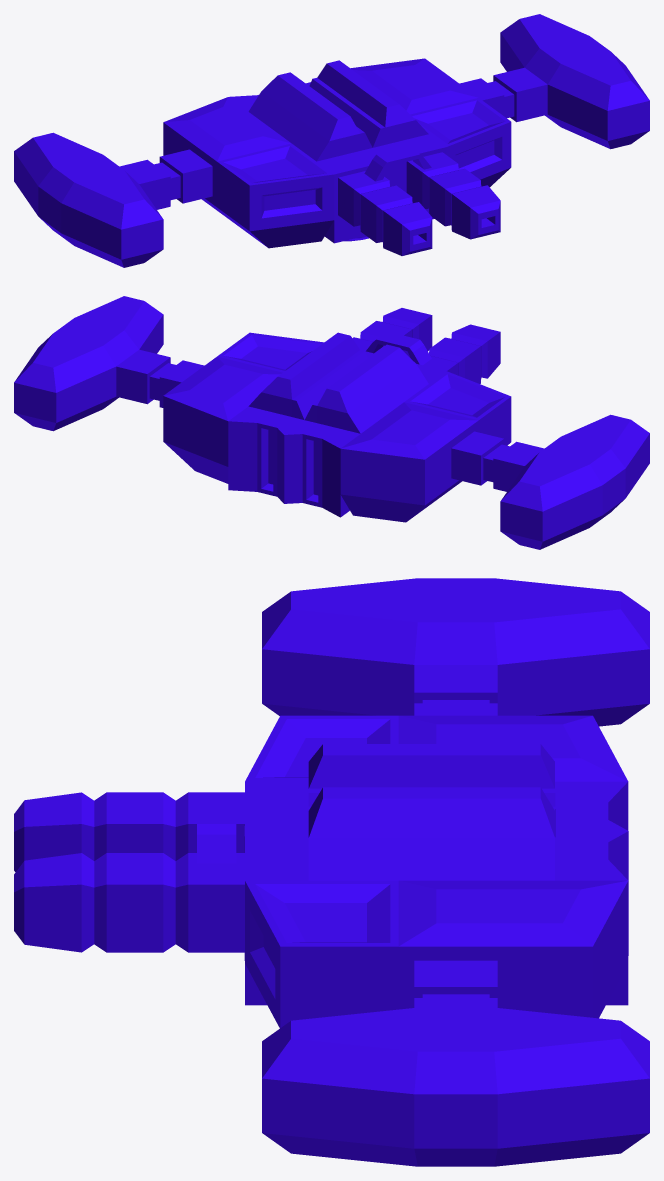
Rendered from Powerplant_Model_Enemy_GroundTurretHead.fbx.
The picture shows the model from 3 angles, top to bottom: view 1: azimuth 30°, elevation 25°; view 2: azimuth 150°, elevation 25°; view 3: azimuth 270°, elevation 25°; orthographic projection. The views are drawn at different scales.
Parts seen in each view (by area): view 1: Body_Head; view 2: Body_Head; view 3: Body_Head.
Part boxes in pixels (x1,y1,x2,y2): Body_Head: [14, 14, 649, 267]; Body_Head: [14, 296, 649, 549]; Body_Head: [14, 578, 649, 1166].
Bounding box in the file's own units: 120 × 28.11 × 64.98.
